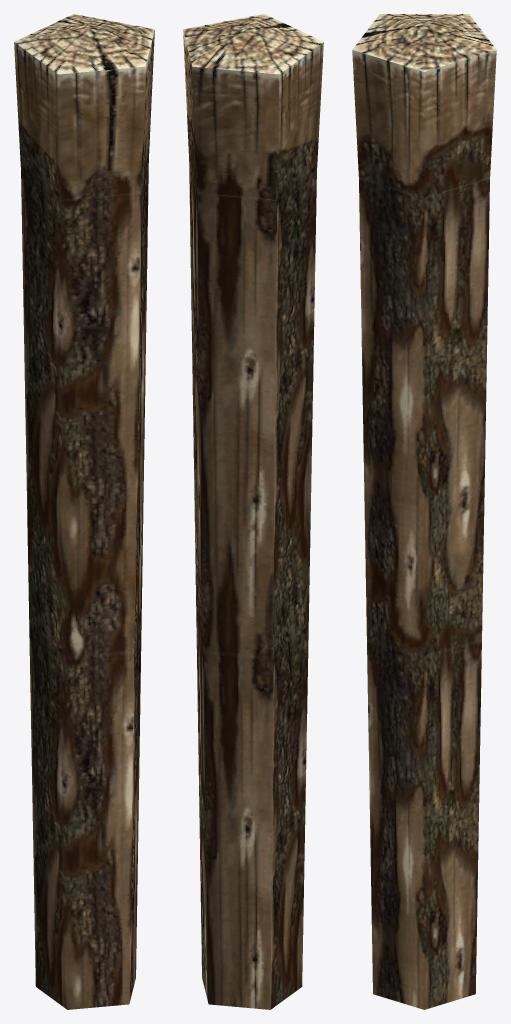
File: loc2_30.glb
3 renders of one model, left to right at view 1: azimuth 30°, elevation 25°; view 2: azimuth 150°, elevation 25°; view 3: azimuth 270°, elevation 25°, orthographic.
Parts seen in each view (by area): view 1: loc2_30-col; view 2: loc2_30-col; view 3: loc2_30-col.
Part boxes in pixels (x1,y1,x2,y2): loc2_30-col: (14,14,154,1009); loc2_30-col: (183,14,323,1009); loc2_30-col: (352,14,496,1009).
Size of the model in its own units: 1.93 by 14.94 by 2.03.
Materials: 1 (1 with a texture image).
